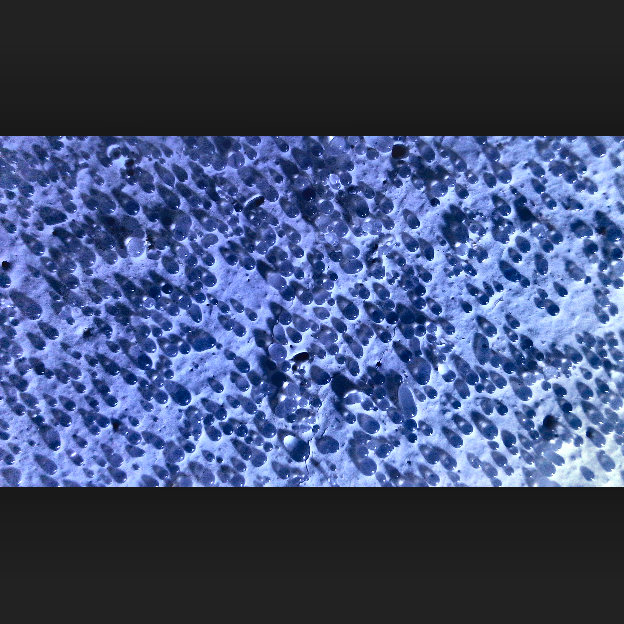GlassBeadSeg: (6, 173, 580, 465), (41, 176, 495, 479), (19, 210, 583, 447), (144, 189, 595, 481), (92, 154, 501, 450), (77, 135, 495, 416), (18, 212, 477, 460), (85, 219, 520, 478), (229, 153, 604, 451), (164, 185, 544, 476), (31, 187, 546, 400), (205, 219, 617, 472), (110, 261, 595, 461), (5, 270, 502, 464), (128, 237, 582, 445), (68, 256, 574, 442), (213, 138, 518, 443), (84, 240, 604, 418), (156, 239, 565, 462), (104, 205, 512, 425), (239, 142, 547, 429), (99, 250, 591, 428), (329, 164, 606, 471), (44, 285, 490, 475), (127, 190, 439, 461), (17, 226, 572, 378), (125, 238, 611, 411), (11, 227, 418, 431), (6, 201, 619, 336), (101, 161, 468, 386), (105, 233, 564, 407), (48, 284, 479, 464), (241, 244, 599, 460), (285, 166, 584, 423), (220, 151, 606, 348), (175, 246, 498, 481), (139, 171, 511, 361), (143, 178, 456, 401), (155, 198, 440, 436), (137, 151, 500, 337), (108, 308, 532, 467), (362, 147, 607, 411), (14, 150, 257, 416), (10, 158, 313, 370), (45, 304, 443, 464), (86, 242, 621, 361), (148, 213, 508, 389), (311, 148, 499, 479), (280, 200, 558, 423), (317, 220, 619, 423), (334, 223, 606, 445), (25, 257, 408, 414), (105, 145, 605, 265), (125, 205, 386, 434), (101, 145, 324, 411), (204, 288, 503, 486), (147, 172, 513, 333), (228, 185, 586, 347), (90, 143, 282, 435), (243, 150, 433, 437), (450, 152, 613, 483), (394, 179, 619, 418), (319, 202, 607, 387), (94, 296, 611, 399), (331, 190, 541, 440), (366, 149, 528, 463), (47, 327, 500, 439), (288, 135, 489, 387), (330, 252, 555, 477), (173, 231, 485, 393), (179, 303, 582, 427), (119, 178, 453, 326), (136, 358, 613, 460), (66, 196, 426, 330), (274, 176, 617, 306), (293, 176, 496, 392), (109, 254, 524, 353), (154, 219, 397, 387), (75, 318, 612, 394), (186, 251, 490, 379), (99, 387, 557, 471), (176, 228, 385, 411), (405, 186, 573, 413), (316, 204, 557, 359), (281, 217, 611, 324), (284, 207, 481, 381), (69, 262, 327, 390), (219, 305, 561, 401), (328, 347, 563, 485), (169, 223, 305, 461), (167, 236, 562, 316), (163, 363, 516, 452), (319, 331, 615, 434), (390, 299, 610, 436), (146, 323, 320, 486), (65, 278, 275, 406), (106, 189, 316, 315), (237, 380, 514, 475), (165, 262, 360, 393), (379, 254, 517, 435), (178, 286, 505, 361), (277, 400, 586, 479), (26, 233, 302, 320), (244, 190, 337, 445), (487, 135, 578, 386), (431, 183, 509, 467), (315, 309, 510, 416), (279, 265, 456, 382), (415, 152, 489, 430), (490, 183, 599, 368), (140, 297, 600, 340), (154, 400, 462, 464), (173, 315, 384, 405), (205, 275, 498, 338), (245, 189, 312, 455), (379, 325, 502, 466), (314, 314, 532, 392), (342, 309, 464, 448), (192, 203, 339, 317), (244, 313, 400, 414), (312, 398, 508, 476), (111, 343, 415, 392), (319, 201, 426, 337), (394, 313, 567, 397), (521, 168, 566, 465), (377, 374, 542, 455), (203, 201, 254, 456), (325, 372, 459, 469), (102, 314, 203, 439), (106, 361, 438, 398), (270, 285, 427, 361), (404, 287, 536, 367), (166, 344, 278, 438), (524, 232, 567, 467), (234, 313, 294, 473), (8, 296, 103, 392), (318, 303, 475, 356), (223, 322, 304, 424), (539, 264, 610, 380), (336, 272, 408, 385), (8, 399, 100, 486), (202, 136, 263, 265), (13, 427, 140, 485), (262, 425, 386, 484), (104, 325, 246, 376), (542, 158, 622, 241), (229, 143, 317, 215), (114, 370, 169, 483), (421, 270, 487, 364), (519, 415, 623, 472), (72, 181, 155, 250), (169, 137, 260, 199), (176, 262, 296, 309), (2, 309, 94, 364), (319, 138, 381, 216), (4, 379, 76, 446), (79, 431, 180, 478), (333, 143, 424, 195), (130, 380, 195, 451), (44, 258, 122, 316), (509, 229, 593, 281), (236, 219, 284, 308), (1, 272, 101, 314), (543, 135, 623, 184), (195, 234, 287, 276), (404, 268, 611, 286), (129, 150, 226, 188), (158, 372, 332, 393), (126, 374, 199, 424), (448, 268, 568, 298), (346, 329, 455, 362), (8, 140, 72, 196), (1, 183, 72, 233), (526, 374, 623, 410), (337, 232, 401, 285), (129, 135, 215, 173), (191, 209, 262, 254), (194, 271, 258, 320), (513, 149, 568, 204), (366, 297, 437, 337), (61, 157, 105, 221), (515, 239, 560, 298), (518, 338, 608, 367), (367, 245, 435, 283), (449, 222, 508, 265), (402, 406, 613, 418), (0, 418, 69, 453), (502, 433, 603, 456), (355, 137, 393, 197), (218, 187, 267, 233), (416, 149, 478, 185), (316, 267, 385, 299), (460, 212, 525, 244), (366, 388, 400, 449), (167, 200, 210, 248), (81, 199, 117, 256), (585, 372, 610, 454), (35, 352, 99, 383), (288, 424, 340, 462), (291, 367, 311, 461), (279, 252, 314, 304), (201, 407, 224, 484), (28, 397, 88, 426), (239, 345, 340, 362), (259, 377, 311, 410), (368, 273, 414, 310), (180, 408, 229, 441), (317, 252, 358, 291), (523, 213, 583, 239), (552, 350, 607, 378), (572, 259, 623, 289), (455, 176, 470, 276), (203, 274, 233, 323), (231, 377, 266, 419), (9, 151, 50, 186), (283, 288, 392, 301), (294, 364, 316, 424), (525, 443, 562, 478), (111, 450, 186, 467), (222, 453, 260, 486), (347, 219, 385, 252), (86, 152, 150, 171), (523, 352, 551, 390), (306, 171, 332, 210), (315, 287, 370, 305), (503, 195, 527, 234), (293, 439, 332, 459), (35, 258, 78, 275), (457, 214, 479, 242), (62, 251, 96, 268), (256, 415, 267, 465), (143, 328, 163, 353), (607, 228, 622, 259), (226, 253, 254, 269), (195, 336, 216, 351), (369, 444, 391, 458), (204, 473, 228, 481), (313, 294, 327, 304), (261, 383, 263, 386), (268, 388, 270, 391)
